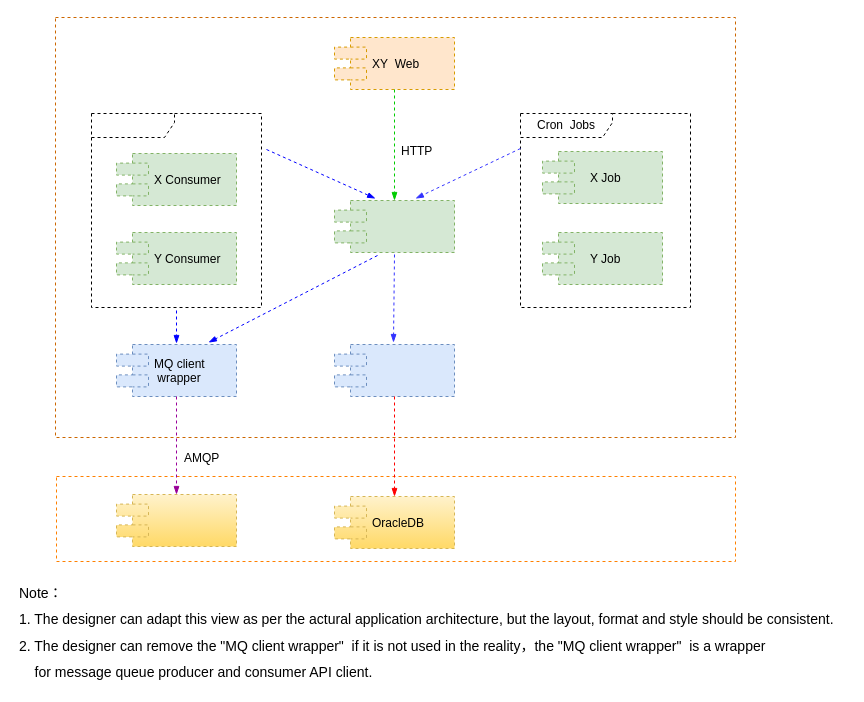
Image size: 864x702. Some labels were removed from this diagram. Each missing label, with the box of its shape:
Consumers: (90, 112, 262, 308)
RabbitMQ: (116, 494, 236, 546)
XY Model: (334, 344, 454, 396)
XY Service: (334, 200, 454, 252)
